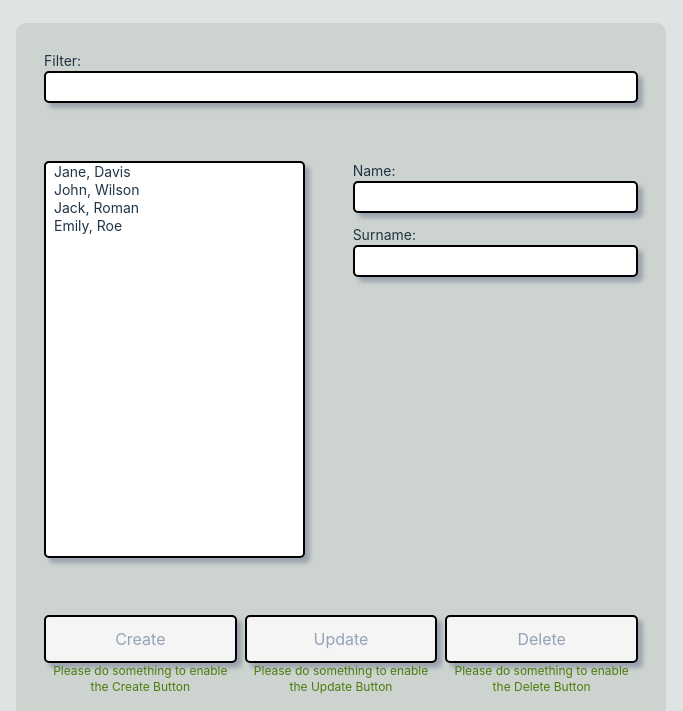
Test: Crud component › should update the user list with retained selection and user, when a user is updated
Type "wI" into the field labelled "Filter:".
click(341, 87); type("wI")  # box left=44, top=71, right=638, bottom=103
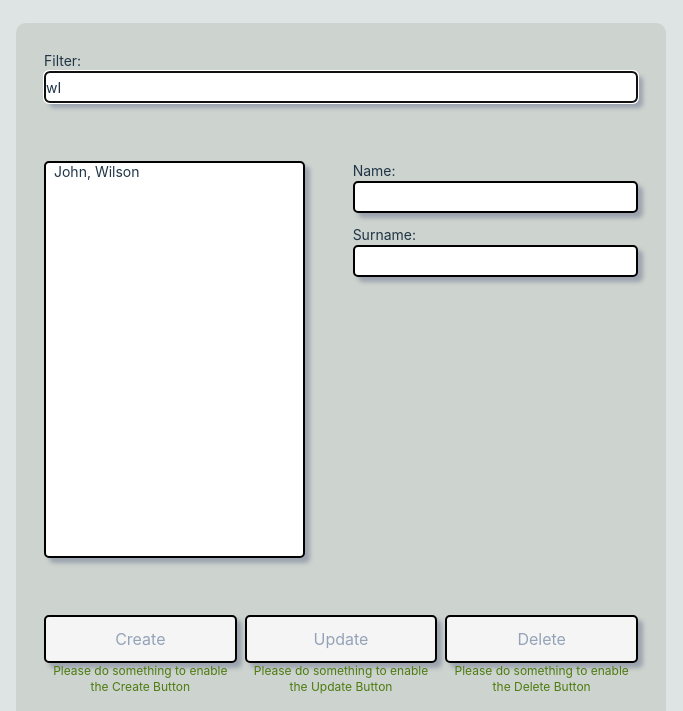
Select "John, Wilson" in the dropdown named "user list box" at (174, 359), box left=44, top=160, right=305, bottom=558
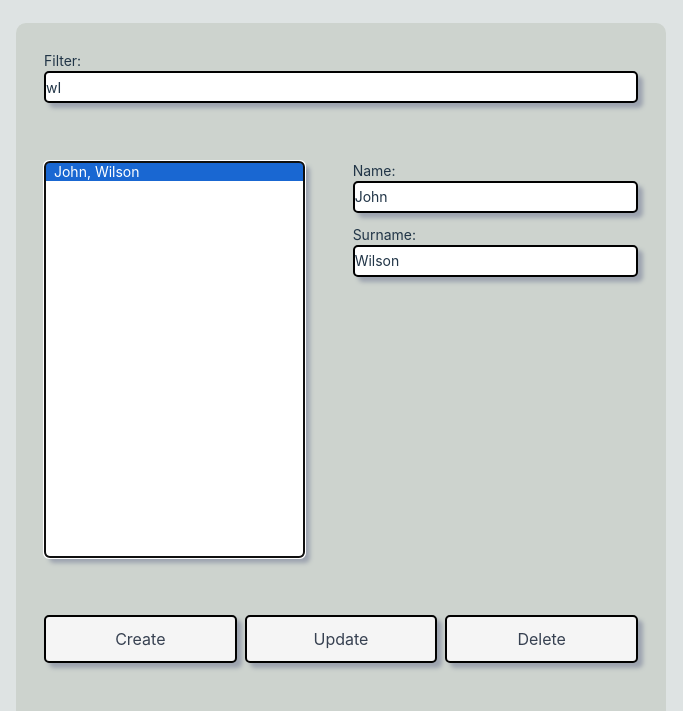
Replace the text in the field labelled "Name:" with "Bella" at (495, 196), box left=353, top=180, right=638, bottom=212
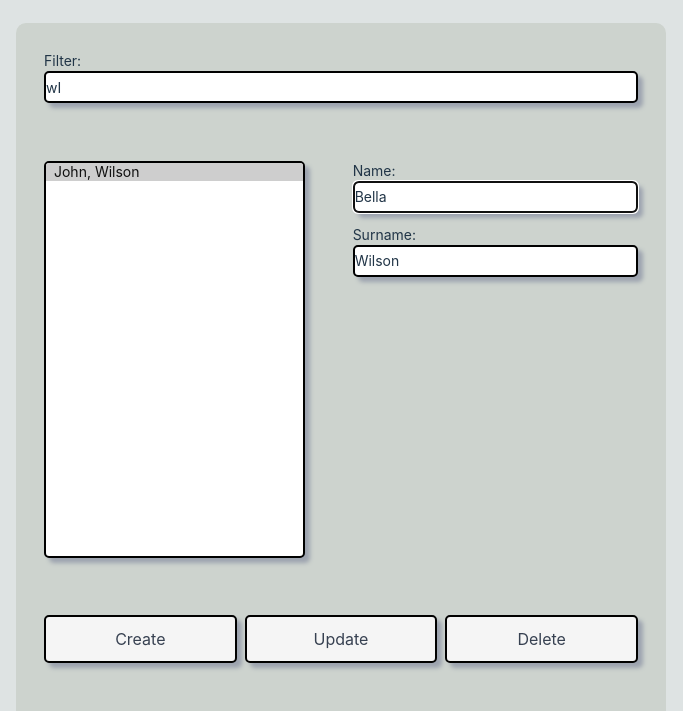
Replace the text in the field labelled "Surname:" with "Roman" at (495, 260), box left=353, top=244, right=638, bottom=276
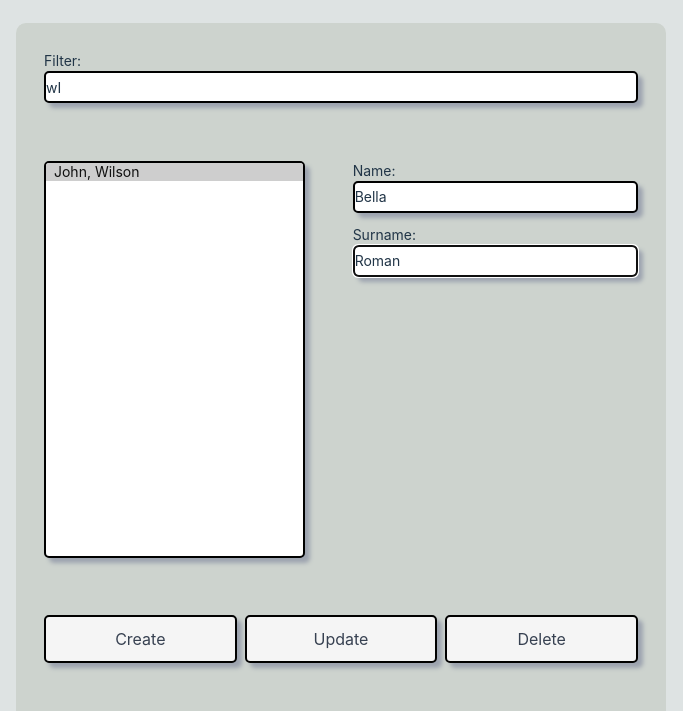
Click the button "Update".
click(341, 639)  # box left=245, top=615, right=437, bottom=663
(page scrolled)
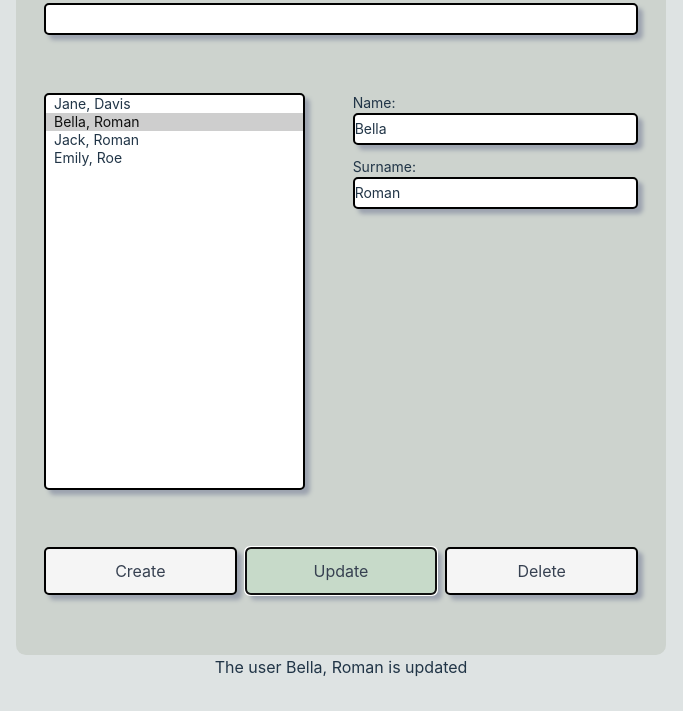
Expected: the text "Bella, Roman" holds "1", left=46, top=112, right=303, bottom=130
Expected: the text "The user Bella, Roman is updated" is shown, left=215, top=657, right=467, bottom=677
